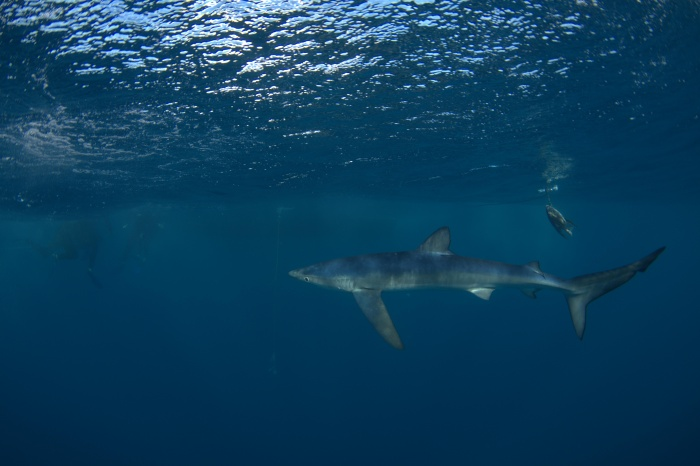Azul: (291, 216, 680, 363)
